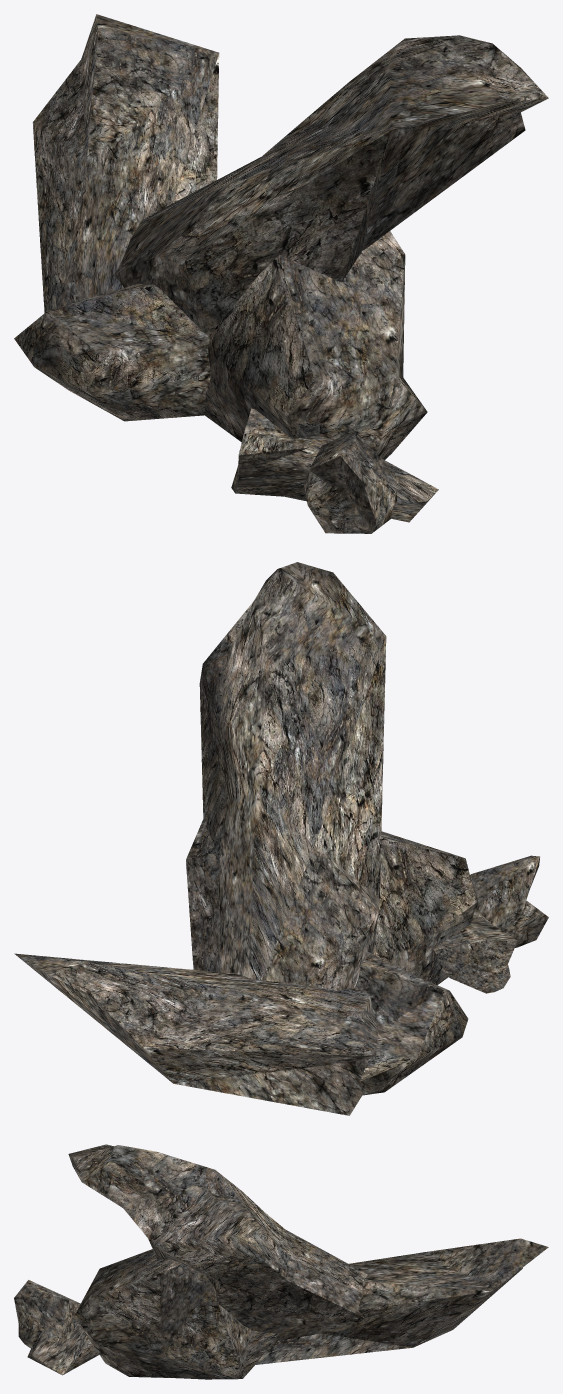
The model's file is pir_m_prp_cav_rockGroup_a.fbx.
3 renders of one model, top to bottom at view 1: azimuth 30°, elevation 25°; view 2: azimuth 150°, elevation 25°; view 3: azimuth 270°, elevation 25°, orthographic. The views are drawn at different scales.
Visible parts, largest first — view 1: rock_4, rock_6, rock_3, rock_5, rock_1, rock_2; view 2: rock_4, rock_6, rock_3, rock_5, rock_1, rock_2; view 3: rock_4, rock_3, rock_6, rock_1, rock_2.
Boxes of the visible parts, x1,y1,x2,y2 form: rock_4: (115,35,548,335); rock_6: (32,14,219,312); rock_3: (204,231,427,459); rock_5: (14,283,210,421); rock_1: (304,431,403,533); rock_2: (231,408,438,522); rock_4: (186,562,386,990); rock_6: (14,953,377,1115); rock_3: (373,831,476,984); rock_5: (356,952,468,1095); rock_1: (470,855,548,947); rock_2: (434,912,517,993); rock_4: (68,1144,367,1341); rock_3: (74,1249,278,1379); rock_6: (255,1238,548,1364); rock_1: (14,1280,80,1348); rock_2: (27,1323,99,1375).
Size of the model in its own units: 5459 by 5277 by 9746.
Materials: 1 (1 with a texture image).
